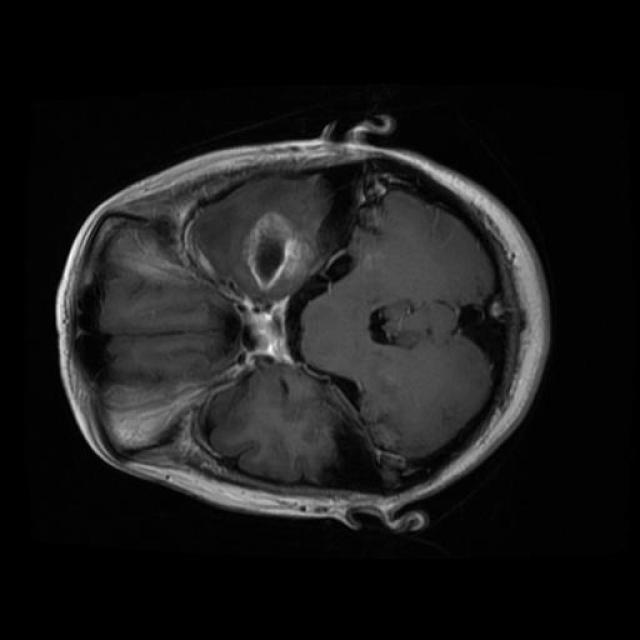Glioma: (243, 213, 313, 293)
